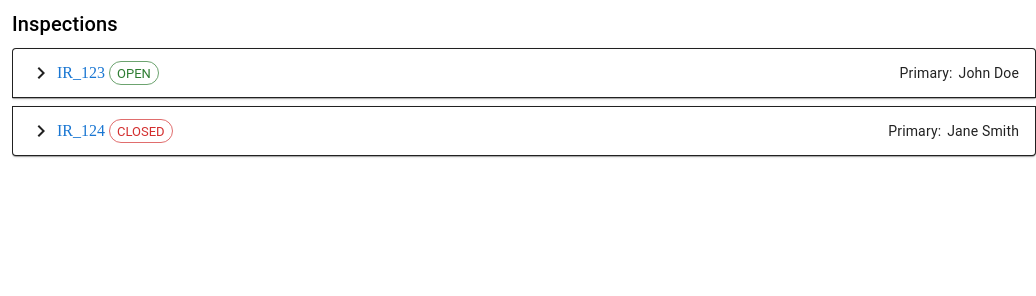
Scenario: CaseFileInspectionsTable › expands accordion when clicked
This screenshot has width=1036, height=296.
Note: Click on the first accordion to expand it
Click the button "IR_123 OPEN Primary: John Doe" at x=134, y=73, box [29,61,1019,85]
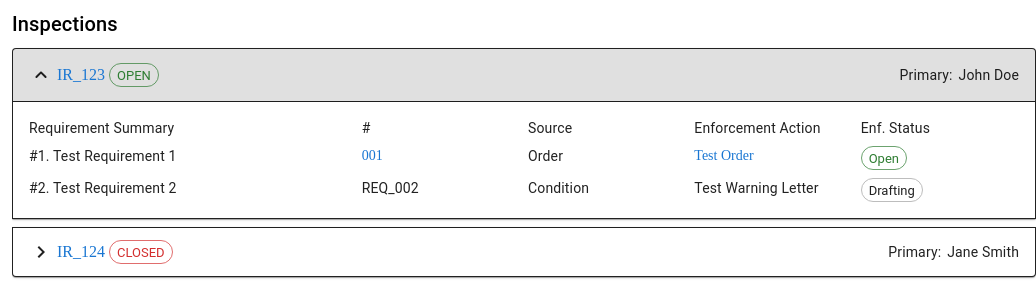
Check: the text "Requirement Summary" is shown, box [29,120,174,136]
Check: the text "#" is shown, box [362,120,370,136]
Check: the text "Source" is shown, box [528,120,572,136]
